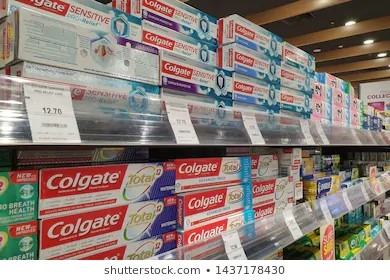colgate-medium: (40, 160, 179, 220), (176, 183, 252, 230), (176, 155, 253, 194)
